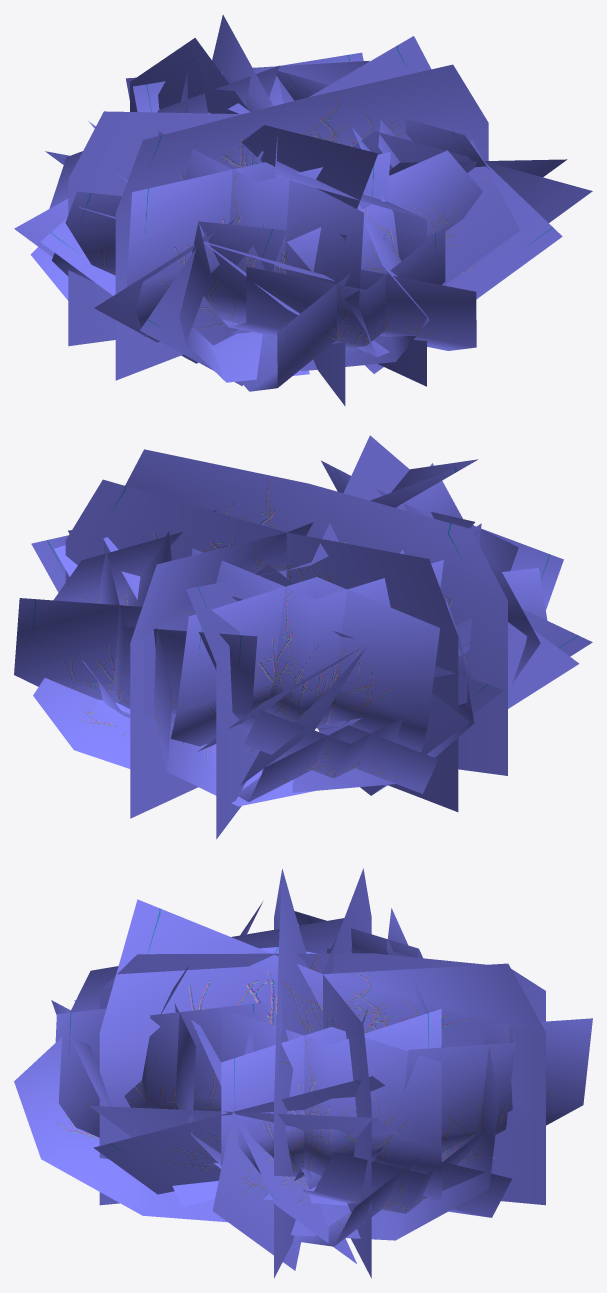
Rendered from Bush_Dead00b Variant.fbx.
3 views of the same model, one above another, from view 1: azimuth 30°, elevation 25°; view 2: azimuth 150°, elevation 25°; view 3: azimuth 270°, elevation 25° (orthographic). The views are drawn at different scales.
Visible parts, largest first — view 1: Lavender_bush12, Lavender_bush07, Lavender_bush10, Lavender_bush02, Lavender_bush08, Lavender_bush09, Lavender_bush01, Lavender_bush00, Lavender_bush06, Lavender_bush11, Lavender_bush05, Lavender_bush04; view 2: Lavender_bush12, Lavender_bush05, Lavender_bush06, Lavender_bush04, Lavender_bush00, Lavender_bush01, Lavender_bush11, Lavender_bush03, Lavender_bush08, Lavender_bush07, Lavender_bush10, Lavender_bush02; view 3: Lavender_bush12, Lavender_bush11, Lavender_bush02, Lavender_bush06, Lavender_bush09, Lavender_bush10, Lavender_bush03, Lavender_bush07, Lavender_bush05, Lavender_bush01.
Boxes of the visible parts, box(x1,y1,x2,y2) form: Lavender_bush12: box(68, 15, 488, 406); Lavender_bush07: box(126, 131, 390, 357); Lavender_bush10: box(222, 226, 476, 391); Lavender_bush02: box(345, 131, 592, 373); Lavender_bush08: box(51, 191, 309, 382); Lavender_bush09: box(230, 127, 482, 371); Lavender_bush01: box(79, 151, 367, 385); Lavender_bush00: box(14, 103, 250, 295); Lavender_bush06: box(126, 52, 369, 112); Lavender_bush11: box(276, 57, 488, 168); Lavender_bush05: box(49, 65, 279, 208); Lavender_bush04: box(30, 247, 68, 300); Lavender_bush12: box(65, 435, 507, 839); Lavender_bush05: box(170, 548, 443, 752); Lavender_bush06: box(14, 540, 323, 806); Lavender_bush04: box(237, 710, 438, 802); Lavender_bush00: box(197, 564, 504, 795); Lavender_bush01: box(262, 523, 592, 794); Lavender_bush11: box(53, 505, 216, 734); Lavender_bush03: box(33, 660, 130, 768); Lavender_bush08: box(292, 568, 547, 792); Lavender_bush07: box(321, 460, 540, 683); Lavender_bush10: box(470, 525, 563, 609); Lavender_bush02: box(31, 530, 140, 599); Lavender_bush12: box(99, 868, 545, 1278); Lavender_bush11: box(221, 1009, 441, 1200); Lavender_bush02: box(89, 1013, 399, 1270); Lavender_bush06: box(212, 1018, 592, 1240); Lavender_bush09: box(55, 1002, 347, 1205); Lavender_bush10: box(14, 1000, 302, 1222); Lavender_bush03: box(293, 1129, 511, 1246); Lavender_bush07: box(70, 902, 344, 1168); Lavender_bush05: box(294, 908, 493, 1189); Lavender_bush01: box(74, 1000, 311, 1206).
Size of the model in its own units: 413 by 211 by 402.
